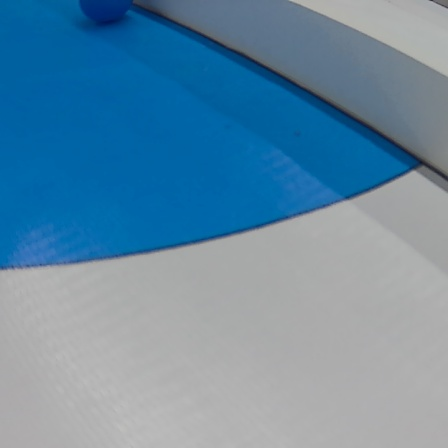blue: (80, 0, 137, 29)
blue_base: (0, 0, 424, 264)
